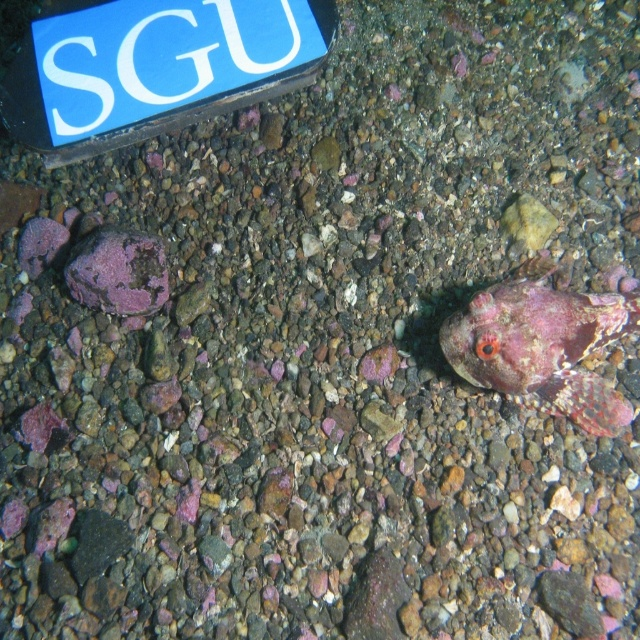Fish: (439, 255, 640, 439)
